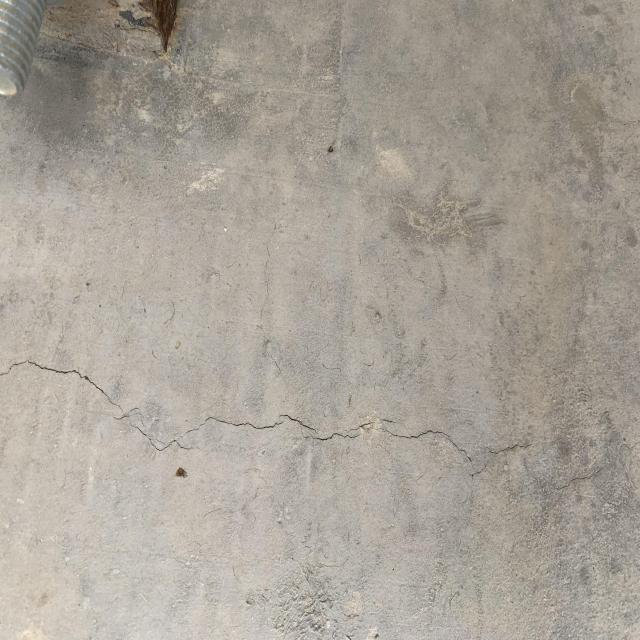horizontal crack: (0, 335, 640, 519)
